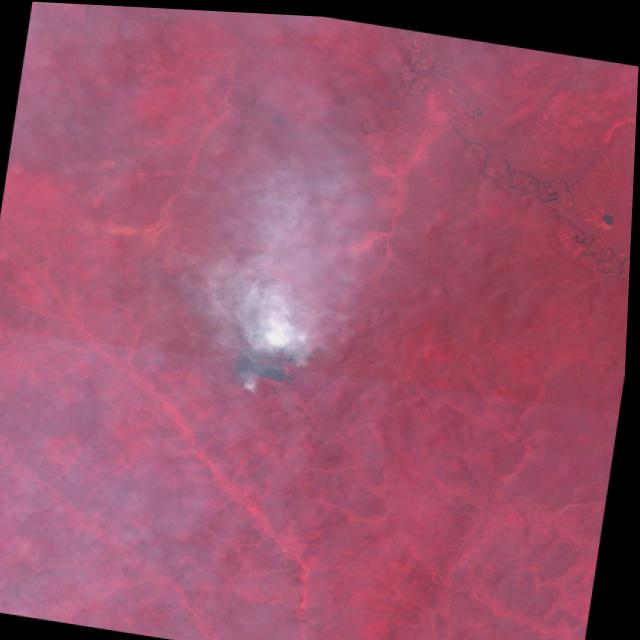fire: (231, 319, 339, 403)
